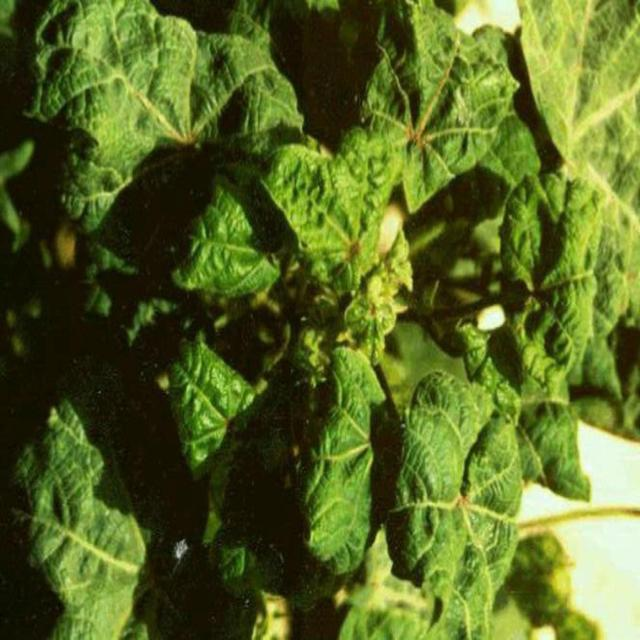Leaf Curl Virus: (357, 83, 590, 546), (107, 46, 327, 300)
